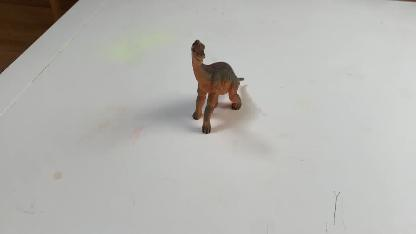brontosaurus: (186, 39, 245, 137)
